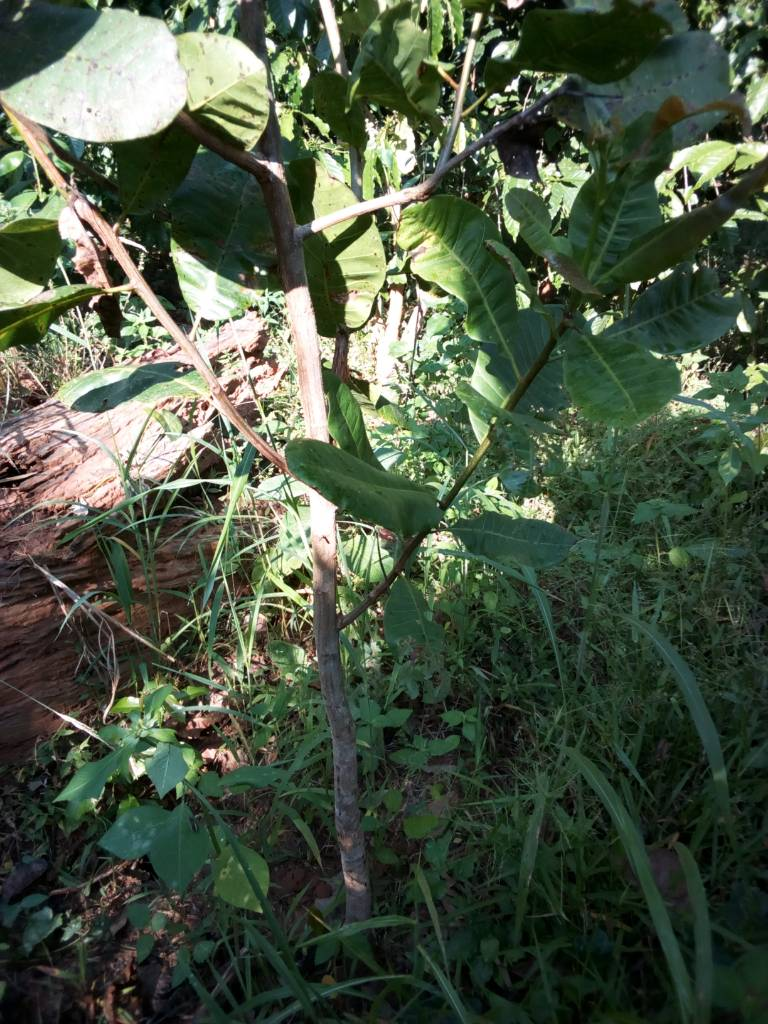Helopeltis anacardii: (399, 196, 521, 344), (283, 436, 446, 528), (563, 321, 683, 425)
